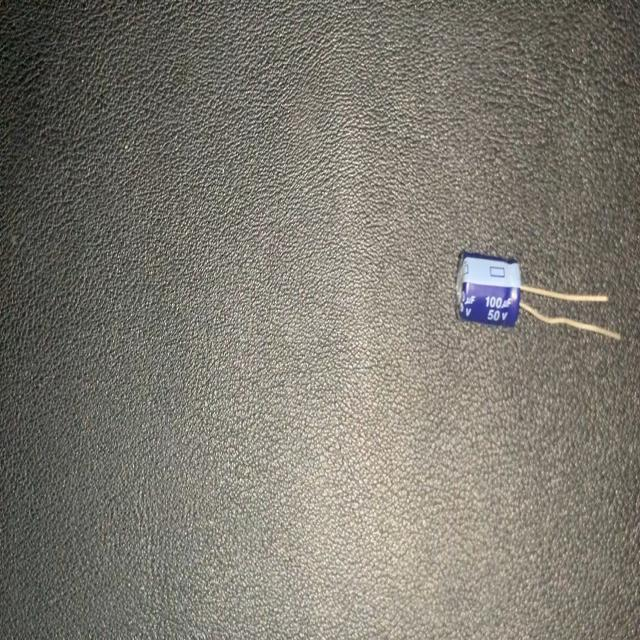capacitor: (453, 242, 624, 349)
